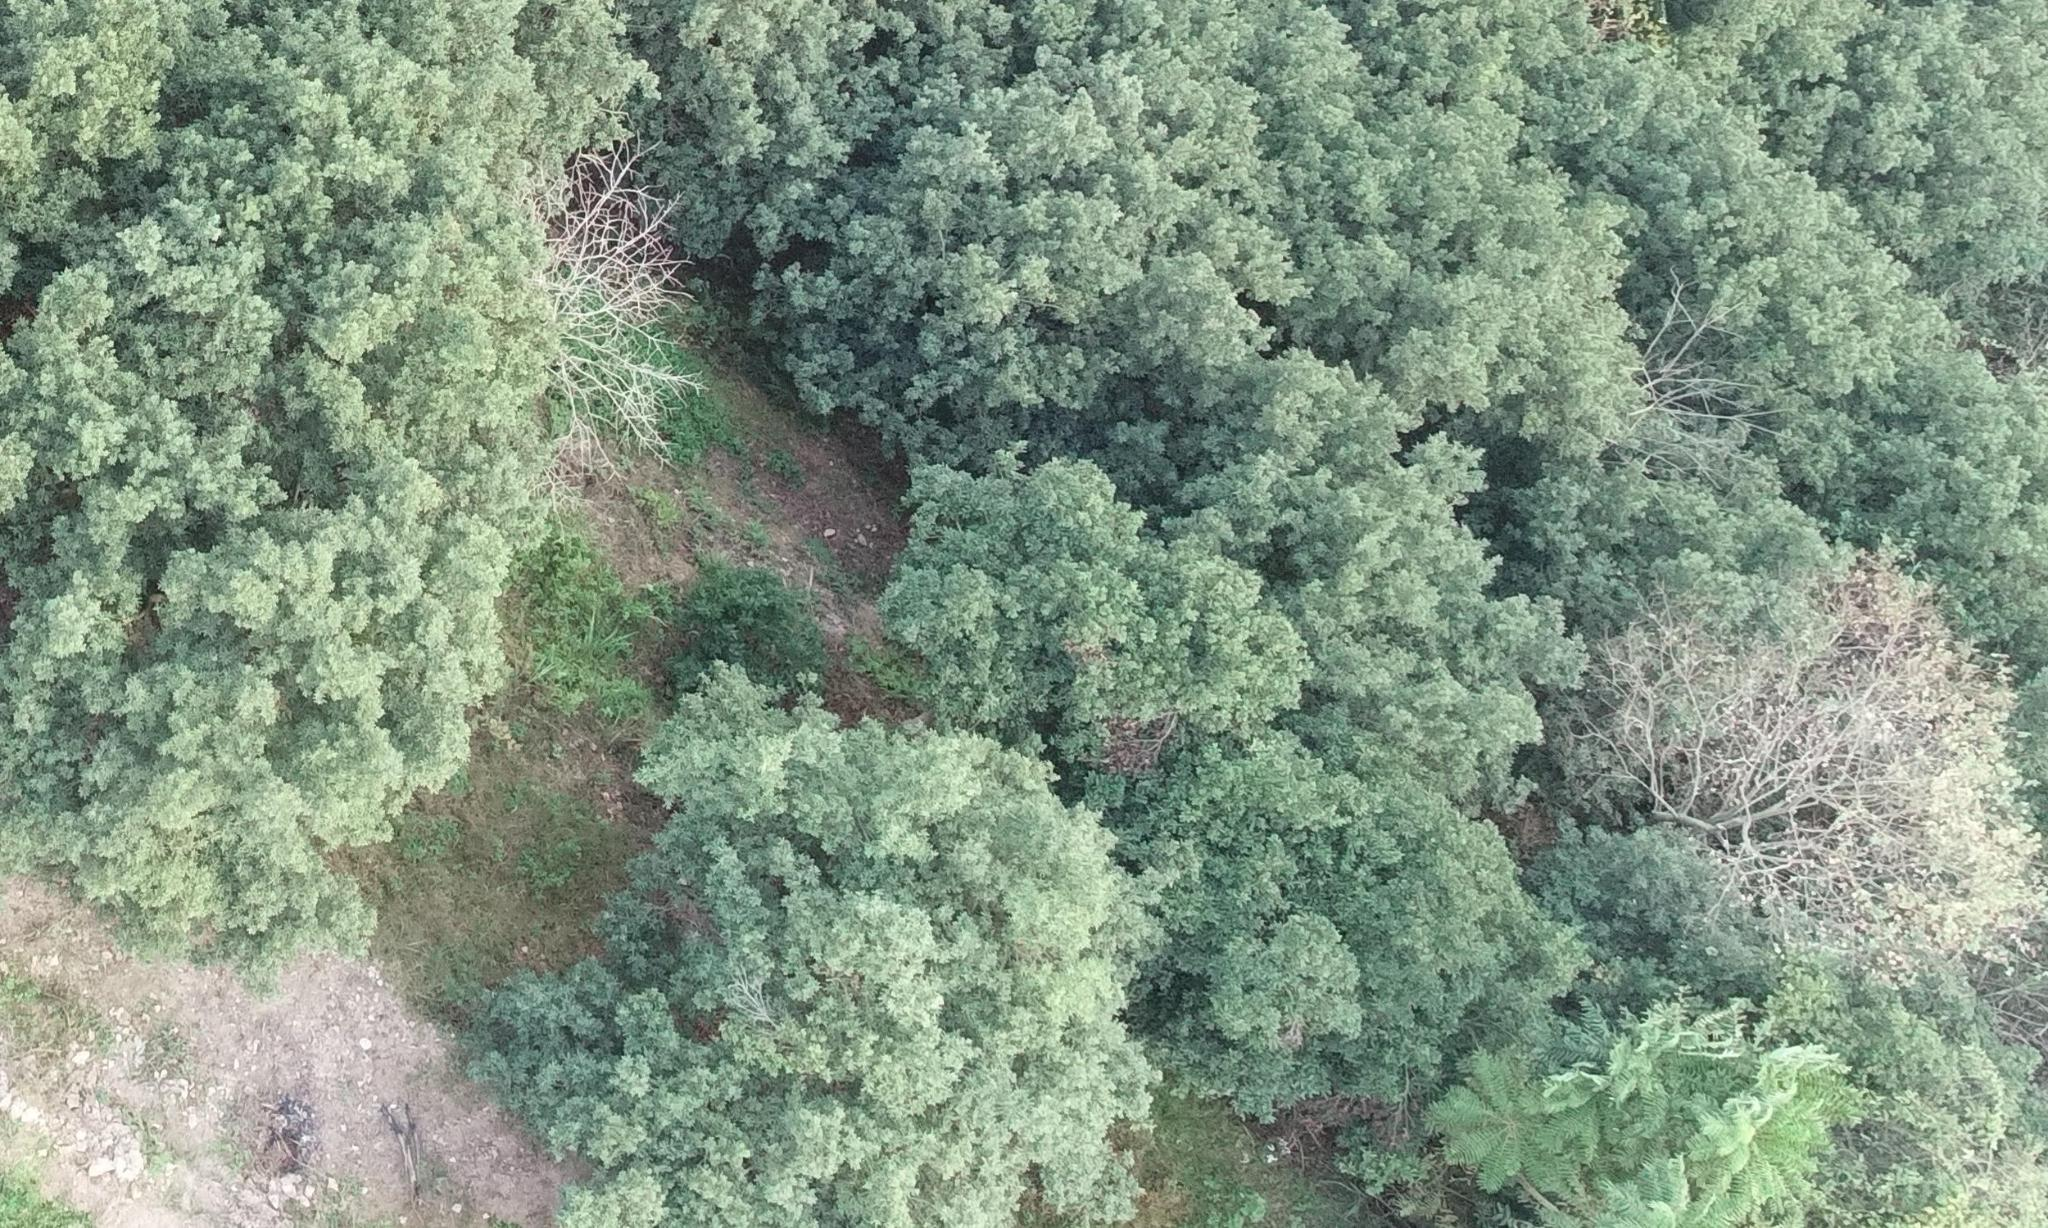dead: (1607, 588, 1935, 993)
heavy: (516, 149, 700, 443)
